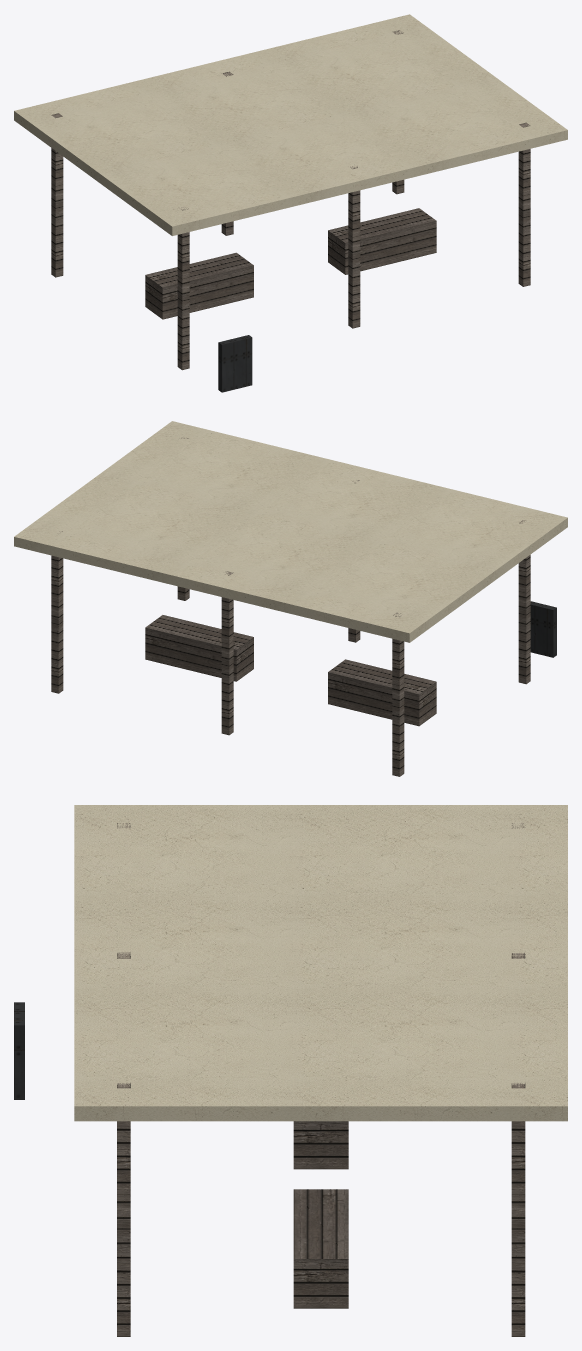
Rendered from farm-stand_lod0.gltf.
3 views of the same model, one above another, from view 1: azimuth 30°, elevation 25°; view 2: azimuth 150°, elevation 25°; view 3: azimuth 270°, elevation 25° (orthographic). The views are drawn at different scales.
Visible parts, largest first — view 1: farm-stand_roof, farm-stand_posts, farm-stand__produce_table_b, farm-stand__produce_table_a, farm-stand__chalkboard; view 2: farm-stand_roof, farm-stand_posts, farm-stand__produce_table_a, farm-stand__produce_table_b, farm-stand__chalkboard; view 3: farm-stand_roof, farm-stand__produce_table_b, farm-stand_posts, farm-stand__produce_table_a, farm-stand__chalkboard.
Part boxes in pixels (x1,y1,x2,y2): farm-stand_roof: (14,14,567,235); farm-stand_posts: (51,30,530,370); farm-stand__produce_table_b: (328,208,436,274); farm-stand__produce_table_a: (145,252,253,319); farm-stand__chalkboard: (218,335,252,392); farm-stand_roof: (14,421,567,642); farm-stand_posts: (51,437,530,776); farm-stand__produce_table_a: (328,659,436,726); farm-stand__produce_table_b: (145,615,253,681); farm-stand__chalkboard: (530,601,556,657); farm-stand_roof: (74,805,567,1121); farm-stand__produce_table_b: (293,1189,348,1308); farm-stand_posts: (117,823,525,1336); farm-stand__produce_table_a: (293,1121,348,1169); farm-stand__chalkboard: (14,1002,24,1099).
Bounding box in the file's own units: 13 × 5 × 10.1.
